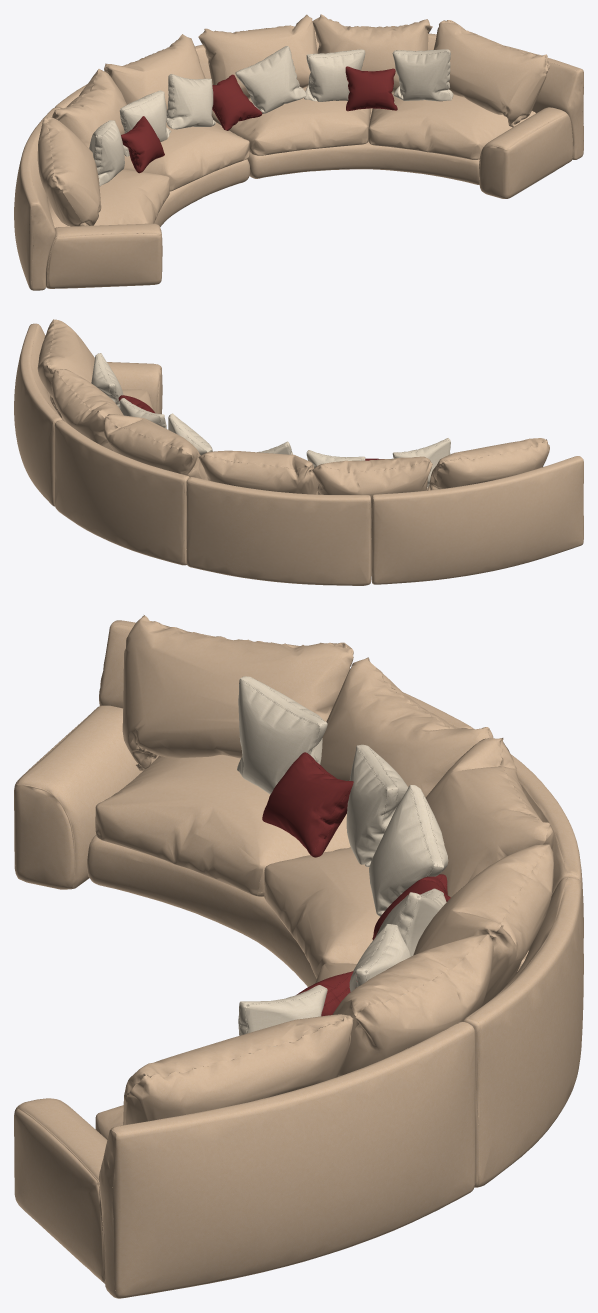
Rendered from ben-ben-curvo-sofa.glb.
The picture shows the model from 3 angles, top to bottom: view 1: azimuth 30°, elevation 25°; view 2: azimuth 150°, elevation 25°; view 3: azimuth 270°, elevation 25°; orthographic projection. The views are drawn at different scales.
Parts seen in each view (by area): view 1: Circular_Sofa1, cushion002.001, cushion007.001, cushion007, cushion003.001, cushion001.001, cushion002, cushion006, cushion003, cushion001; view 2: Circular_Sofa1, cushion002.001, cushion002, cushion007.001, cushion003.001, cushion003; view 3: Circular_Sofa1, cushion002, cushion007, cushion001, cushion003, cushion002.001, cushion007.001, cushion003.001, cushion001.001, cushion006.
Boxes of the visible parts, x1,y1,x2,y2 form: Circular_Sofa1: [14, 14, 583, 290]; cushion002.001: [392, 49, 453, 101]; cushion007.001: [235, 46, 306, 113]; cushion007: [166, 74, 215, 129]; cushion003.001: [304, 49, 365, 101]; cushion001.001: [345, 66, 397, 111]; cushion002: [89, 120, 124, 186]; cushion006: [212, 74, 262, 130]; cushion003: [119, 90, 171, 156]; cushion001: [121, 116, 164, 173]; Circular_Sofa1: [14, 319, 583, 585]; cushion002.001: [91, 353, 123, 408]; cushion002: [392, 438, 450, 488]; cushion007.001: [168, 413, 212, 455]; cushion003.001: [119, 398, 166, 428]; cushion003: [306, 450, 365, 467]; Circular_Sofa1: [14, 615, 583, 1298]; cushion002: [237, 676, 327, 794]; cushion007: [369, 785, 448, 916]; cushion001: [262, 752, 353, 857]; cushion003: [346, 744, 408, 866]; cushion002.001: [238, 985, 327, 1053]; cushion007.001: [376, 888, 446, 956]; cushion003.001: [349, 924, 410, 1001]; cushion001.001: [296, 971, 357, 1016]; cushion006: [372, 874, 450, 939].
Bounding box in the file's own units: 4.37 × 0.8655 × 2.04.
Materials: 3 (3 with a texture image).
